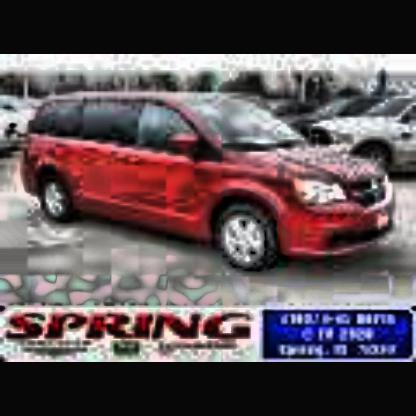Ram C-V Cargo Van Minivan 2012: (19, 85, 410, 286)
